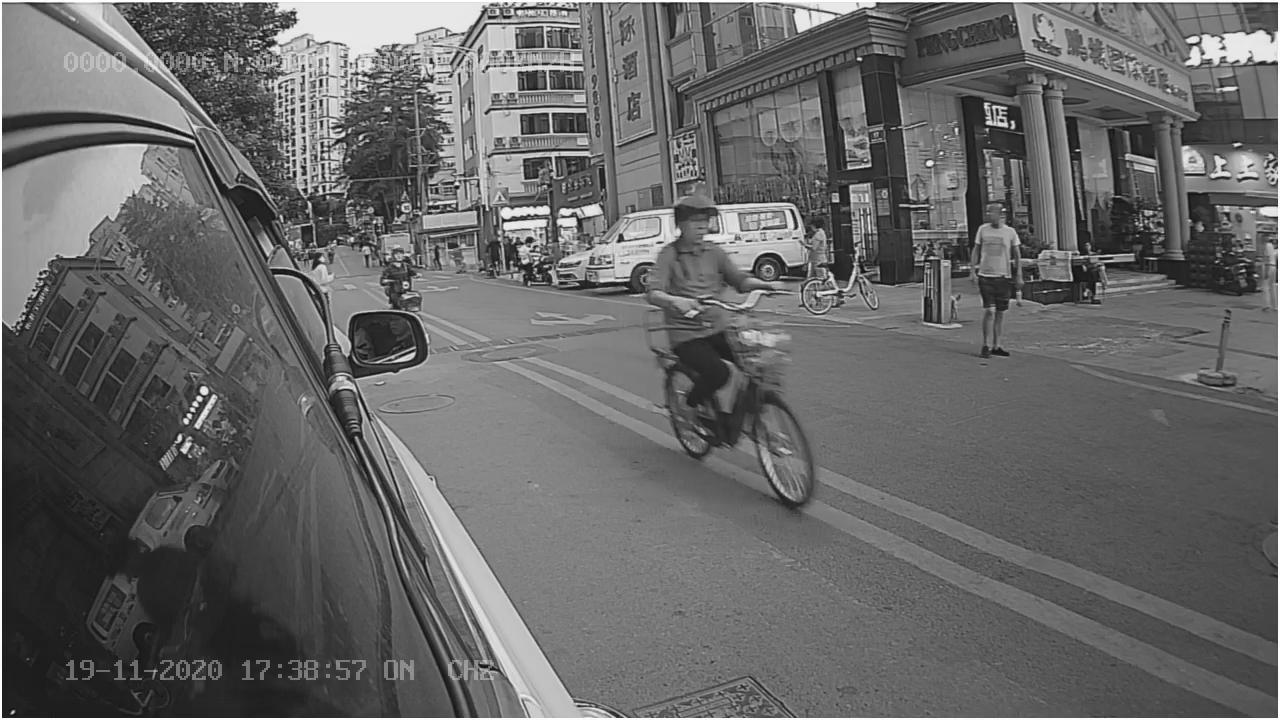person: (642, 202, 758, 338)
